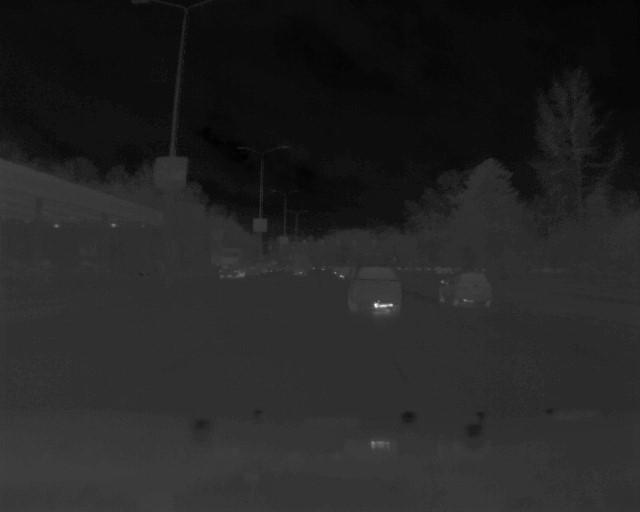car: (345, 261, 404, 313), (436, 270, 498, 309)
